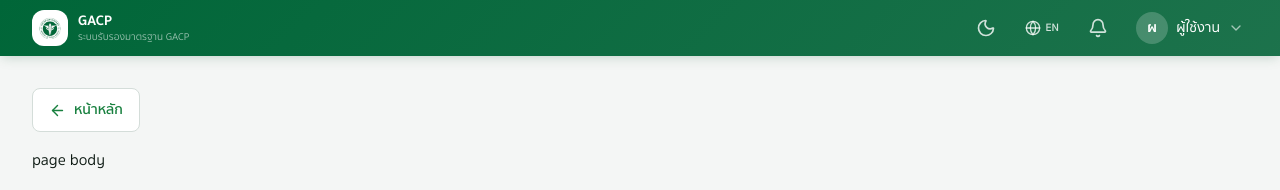
Test: DashboardLayout — Y1-FIX-A language toggle › clicking the toggle flips the language without crashing the layout
Click the button with test id "language-toggle" at [1042, 28], box [1020, 6, 1064, 50]
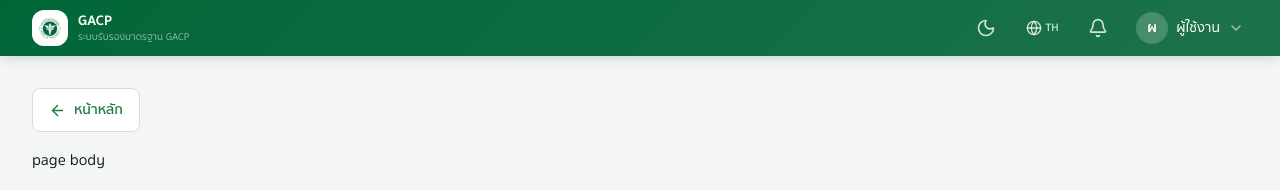
Expected: the element with id "main-content" is shown, [32, 88, 140, 173]
Now the button with test id "language-toggle" reads "TH", box [1020, 6, 1064, 50]
